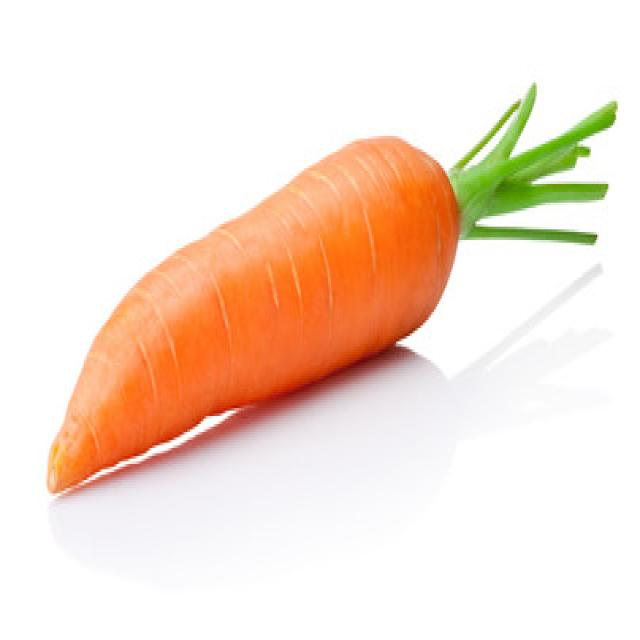Carrot: (44, 80, 618, 493)
